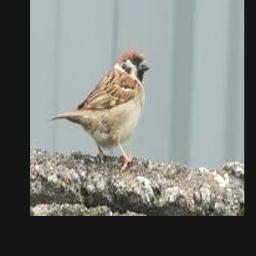Sparrow: (49, 51, 151, 170)
